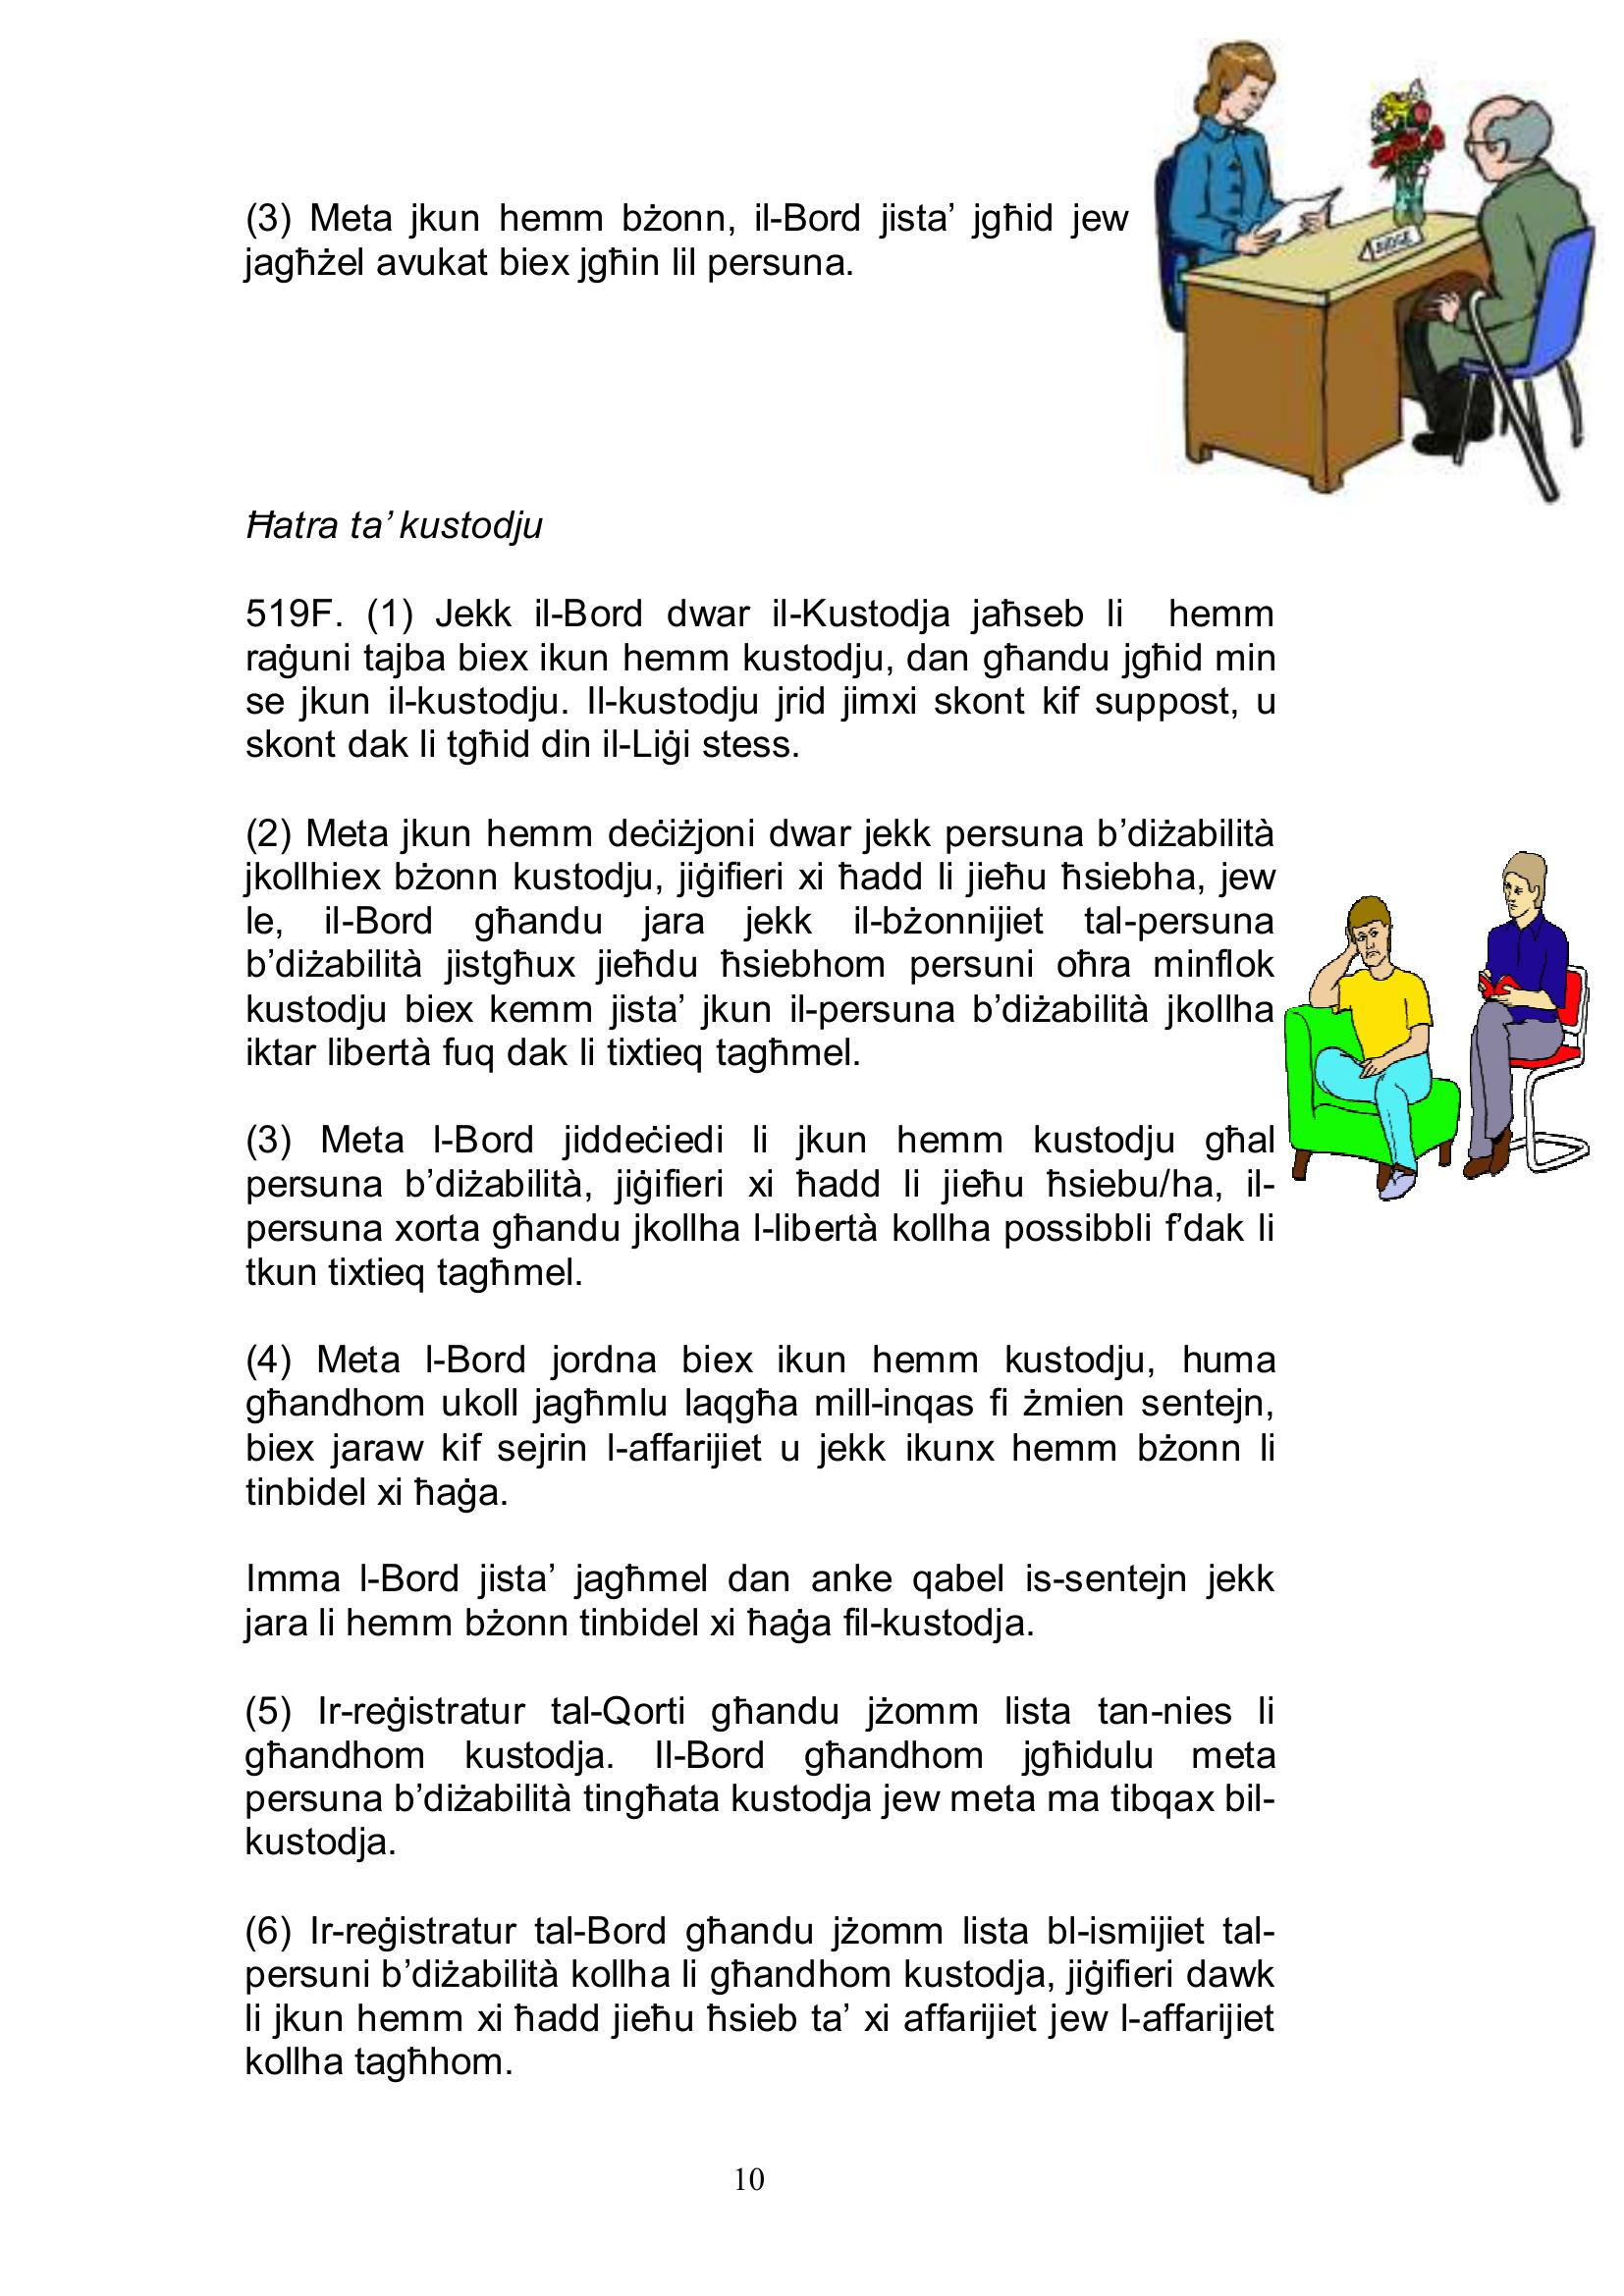text: (202, 163, 1283, 2122)
whiteout: (1146, 16, 1624, 520)
